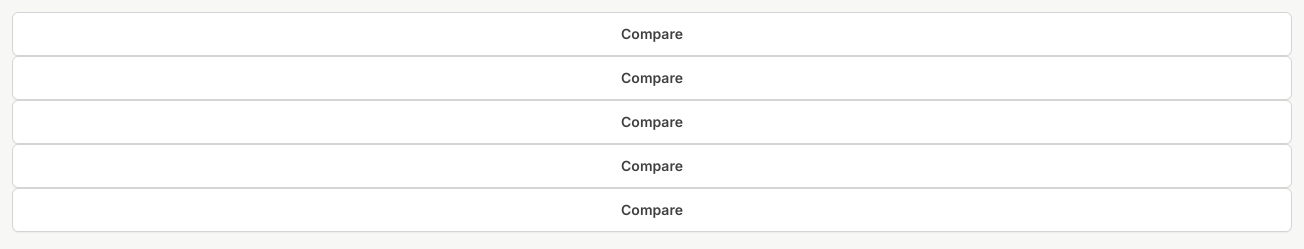
it: CompareButton › selects up to four properties and allows removal
The width and height of the screenshot is (1304, 249).
Click the button named "Add to comparison". click: point(652, 34)
box: [12, 12, 1292, 56]
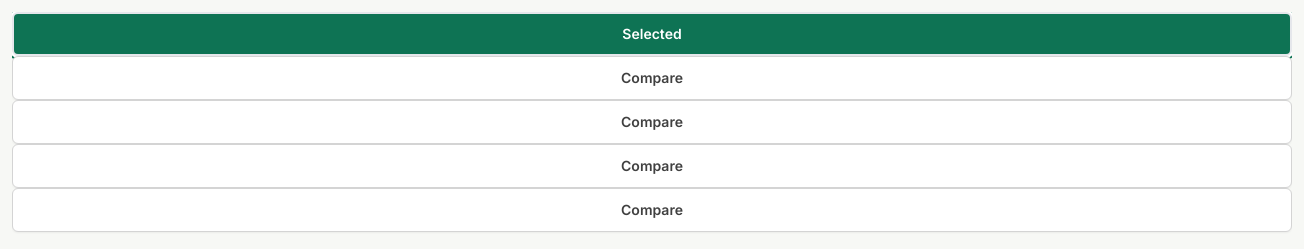
Click the button named "Add to comparison". click: point(652, 78)
box: [12, 56, 1292, 100]
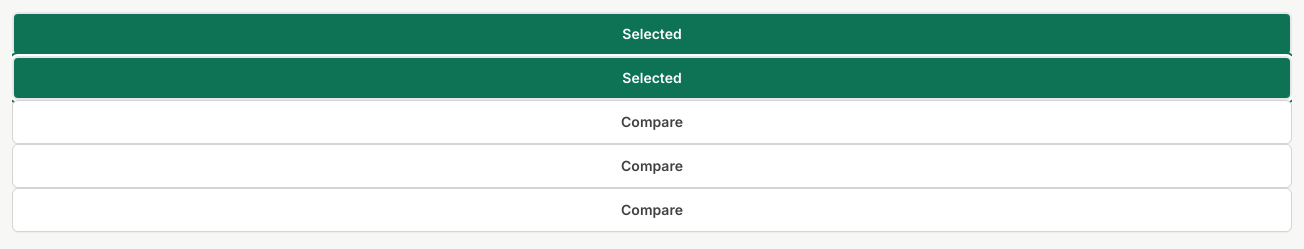
Click the button named "Add to comparison". click: point(652, 122)
box: [12, 100, 1292, 144]
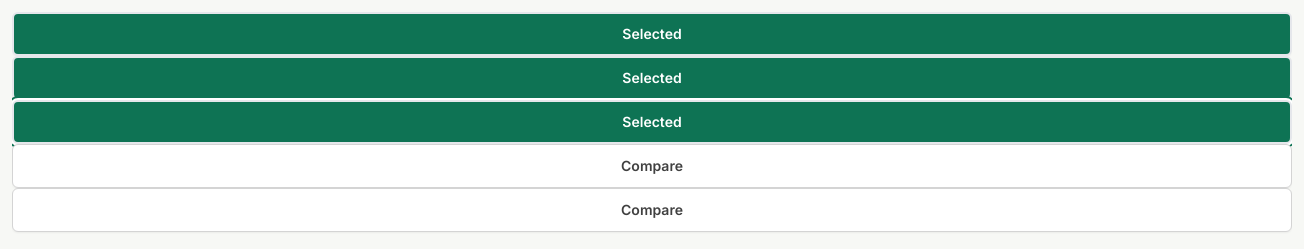
Click the button named "Add to comparison". click: point(652, 166)
box: [12, 144, 1292, 188]
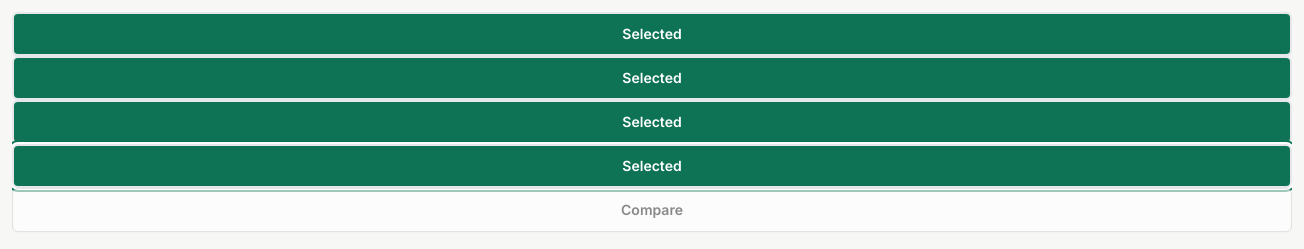
Expected: the button named "Add to comparison: Property 5" is disabled, [12, 188, 1292, 232]
Click the button named "Remove from comparison: Property 1". click: point(652, 34)
box: [12, 12, 1292, 56]
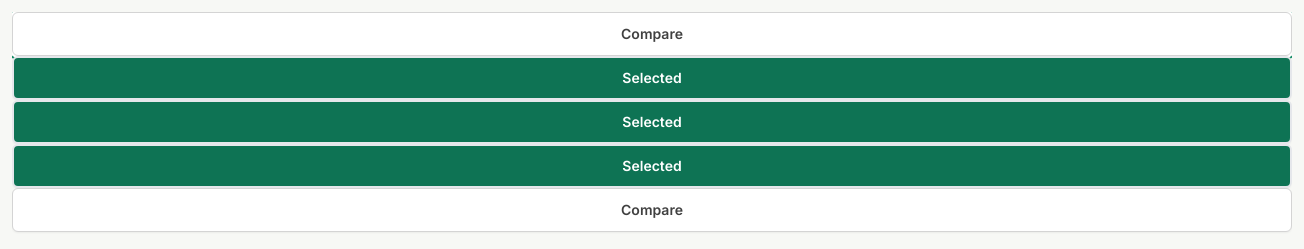
Expected: the button named "Add to comparison: Property 5" is enabled, [12, 188, 1292, 232]
